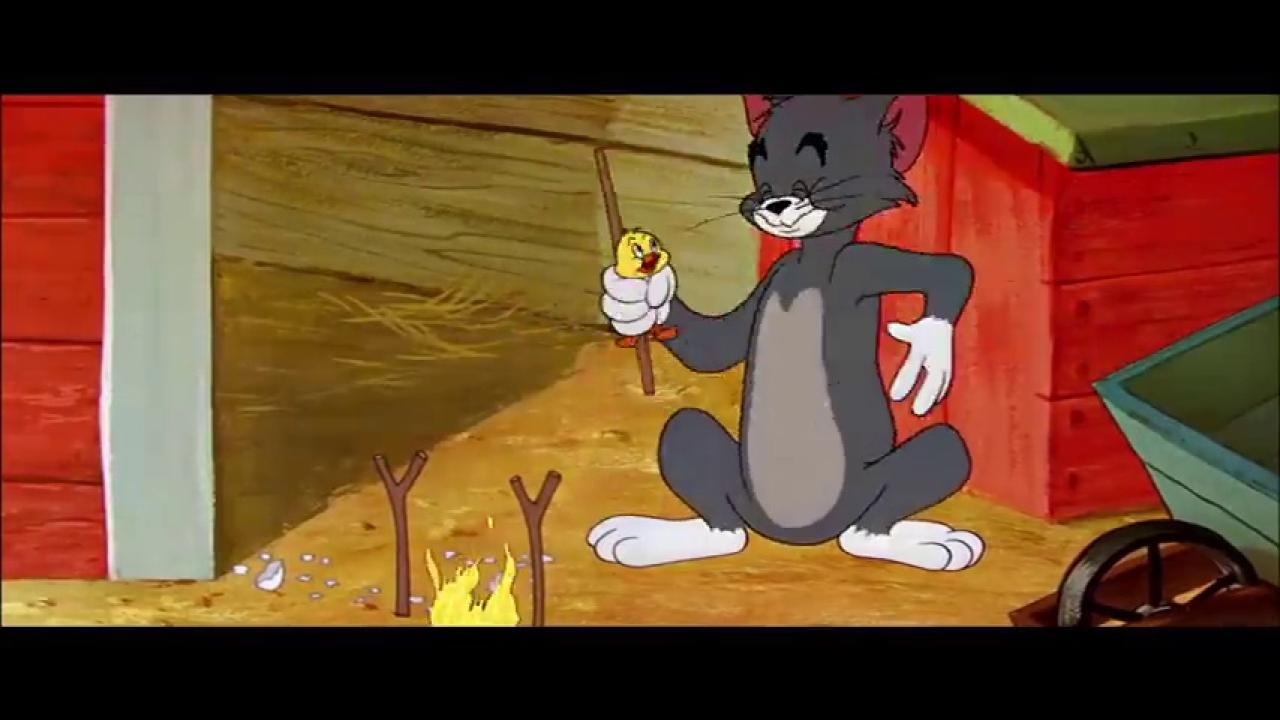Tom: (583, 95, 986, 569)
